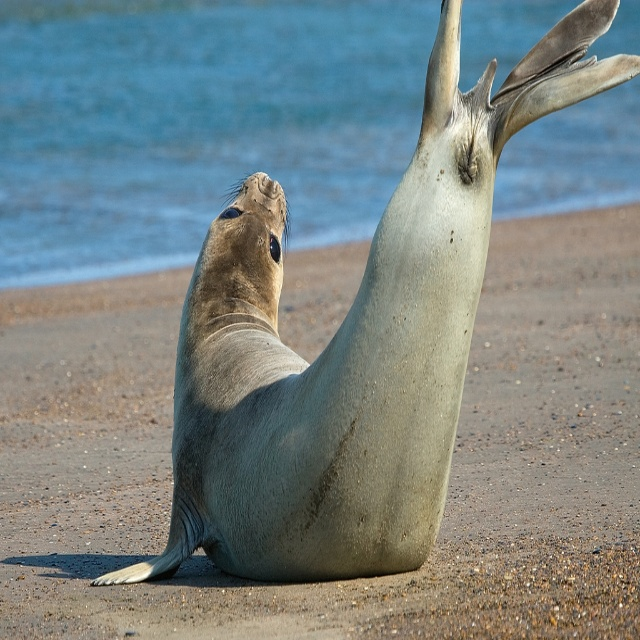Sea lion: (87, 0, 640, 583)
